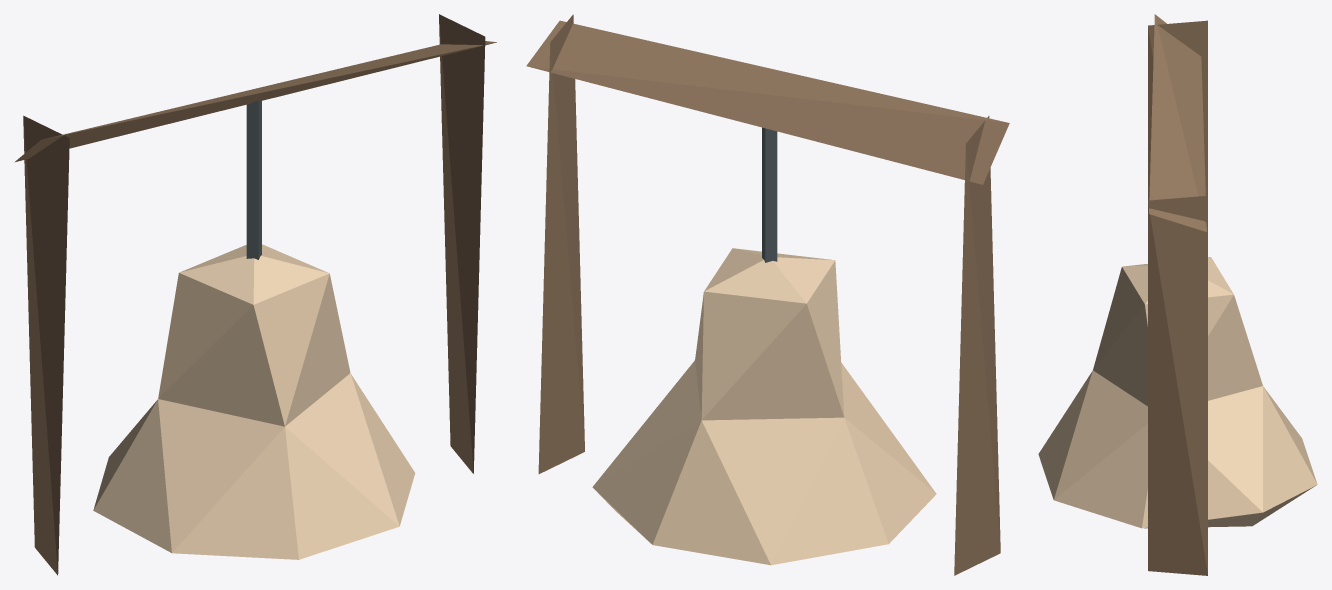
The model's file is lighthouse.fog_bell.lod2.glb.
3 views of the same model, side by side, from view 1: azimuth 30°, elevation 25°; view 2: azimuth 150°, elevation 25°; view 3: azimuth 270°, elevation 25° (orthographic). The views are drawn at different scales.
Parts seen in each view (by area): view 1: Bell, Support, Support.001, Hanger, Chain; view 2: Bell, Hanger, Support.001, Support, Chain; view 3: Bell, Support.001, Hanger, Support.
Boxes of the visible parts, x1,y1,x2,y2 form: Bell: (93,244,415,559); Support: (23,115,69,575); Support.001: (439,14,485,473); Hanger: (14,41,496,162); Chain: (246,100,261,259); Bell: (592,248,936,565); Hanger: (526,20,1009,184); Support.001: (538,14,584,473); Support: (954,116,1000,575); Chain: (762,127,777,262); Bell: (1038,257,1317,528); Support.001: (1148,195,1207,575); Hanger: (1149,14,1206,231); Support: (1148,20,1207,200).
Size of the model in its own units: 1.2 by 1.1 by 0.7415.
